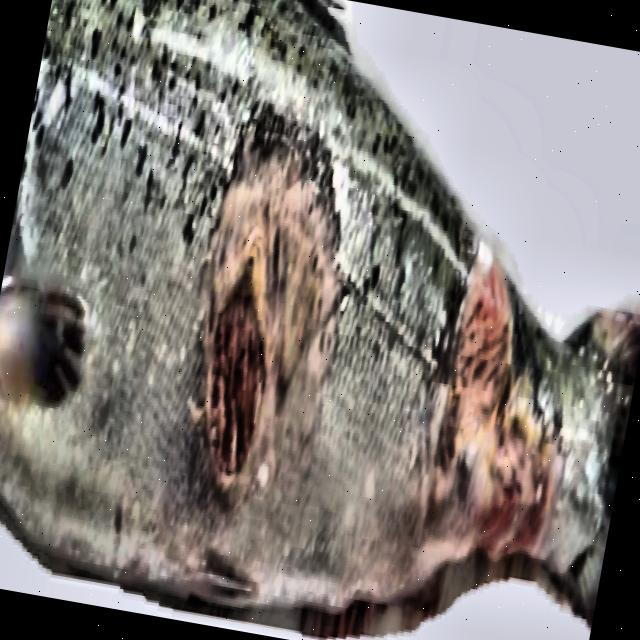mild_red: (0, 0, 472, 598)
wound: (199, 141, 343, 502), (424, 233, 560, 560)
